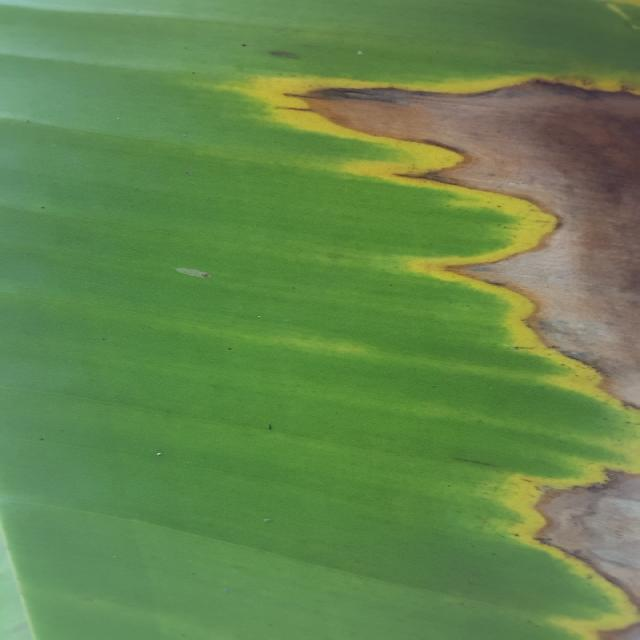Cordana: (197, 0, 640, 640)
